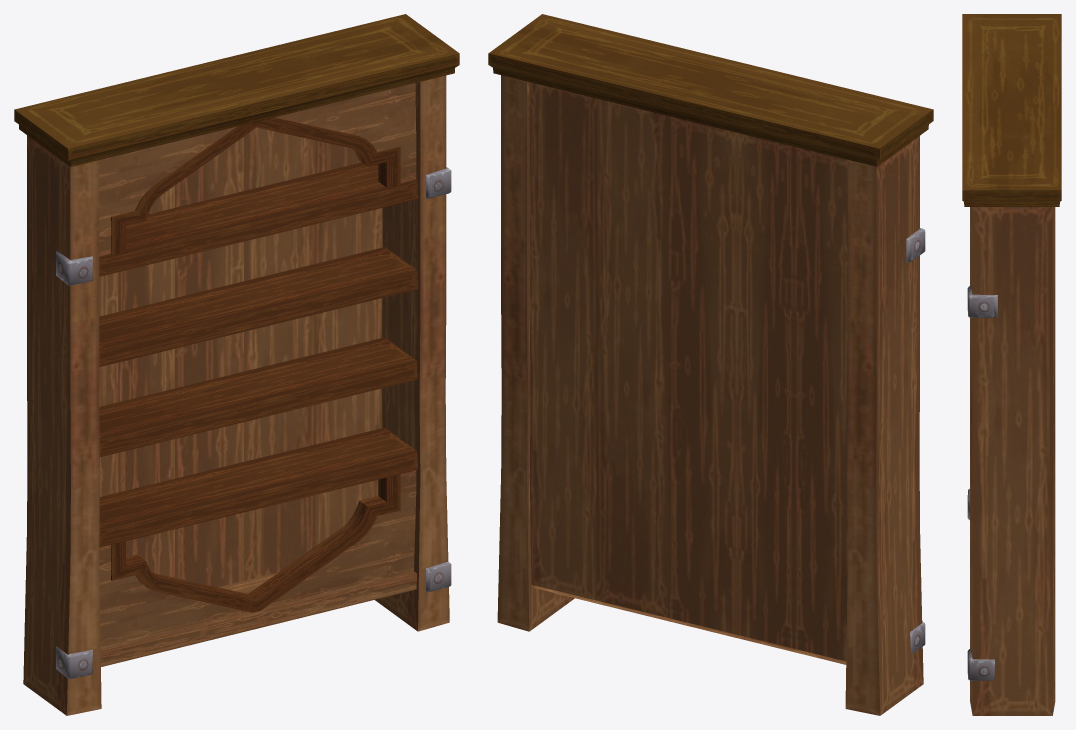
File: Bookcase_1.gltf
3 renders of one model, left to right at view 1: azimuth 30°, elevation 25°; view 2: azimuth 150°, elevation 25°; view 3: azimuth 270°, elevation 25°, orthographic. The views are drawn at different scales.
Visible parts, largest first — view 1: Bookcase_1; view 2: Bookcase_1; view 3: Bookcase_1.
Boxes of the visible parts, bbox=[...] form: Bookcase_1: bbox=[14, 14, 459, 715]; Bookcase_1: bbox=[488, 14, 933, 715]; Bookcase_1: bbox=[962, 14, 1061, 715].
Size of the model in its own units: 1.74 by 2.43 by 0.4146.
Materials: 2 (2 with a texture image).
